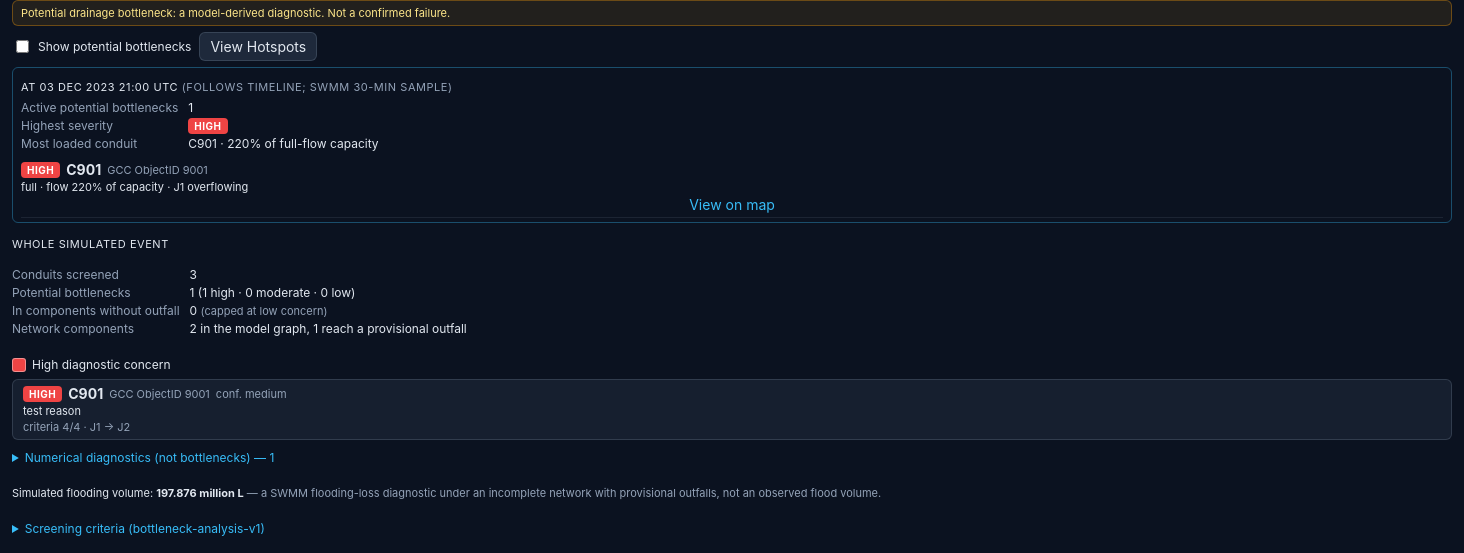
Hydraulics time-aware view › lists potential bottlenecks active at the selected timestamp and updates with the timeline
Expected: the element named "Hydraulic state at the selected timestamp" shows "C901", left=188, top=136, right=217, bottom=151
Expected: the element named "Hydraulic state at the selected timestamp" shows "220% of full-flow capacity", left=12, top=67, right=1452, bottom=223
Click the button "View on map": (732,204) left=21, top=196, right=1443, bottom=213
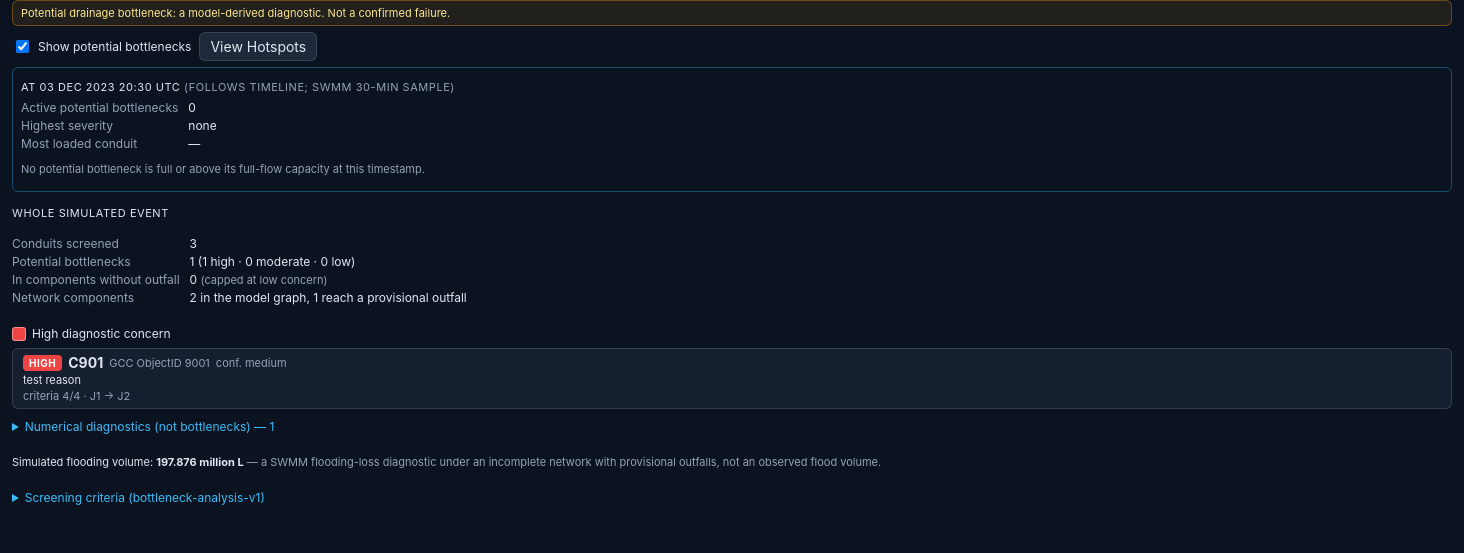
Expected: the element named "Hydraulic state at the selected timestamp" shows "No potential bottleneck is full", left=21, top=162, right=425, bottom=176
